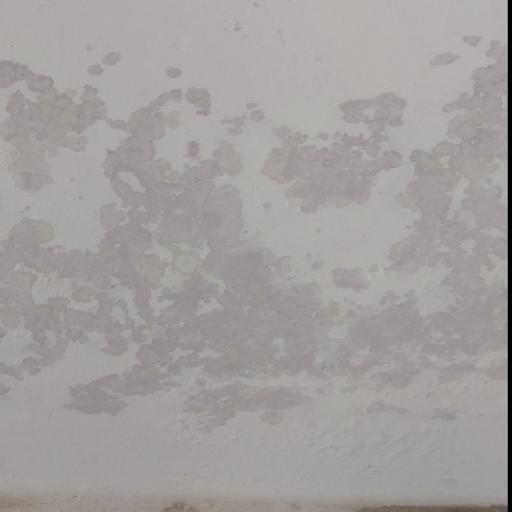peeling: (0, 33, 512, 444)
